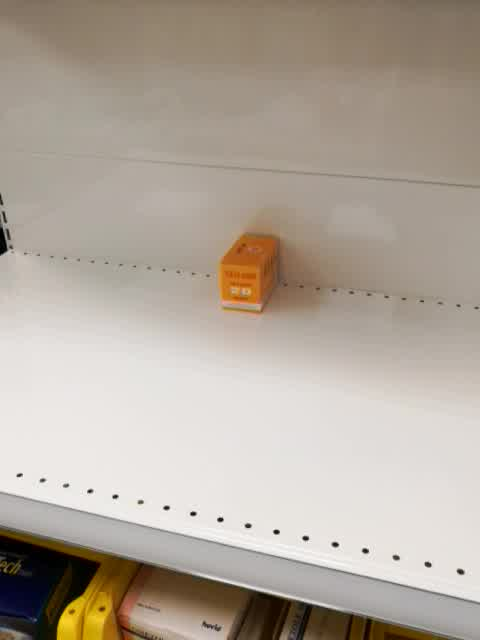jasminetea: (218, 231, 280, 315)
